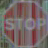Stop: (3, 1, 44, 47)
